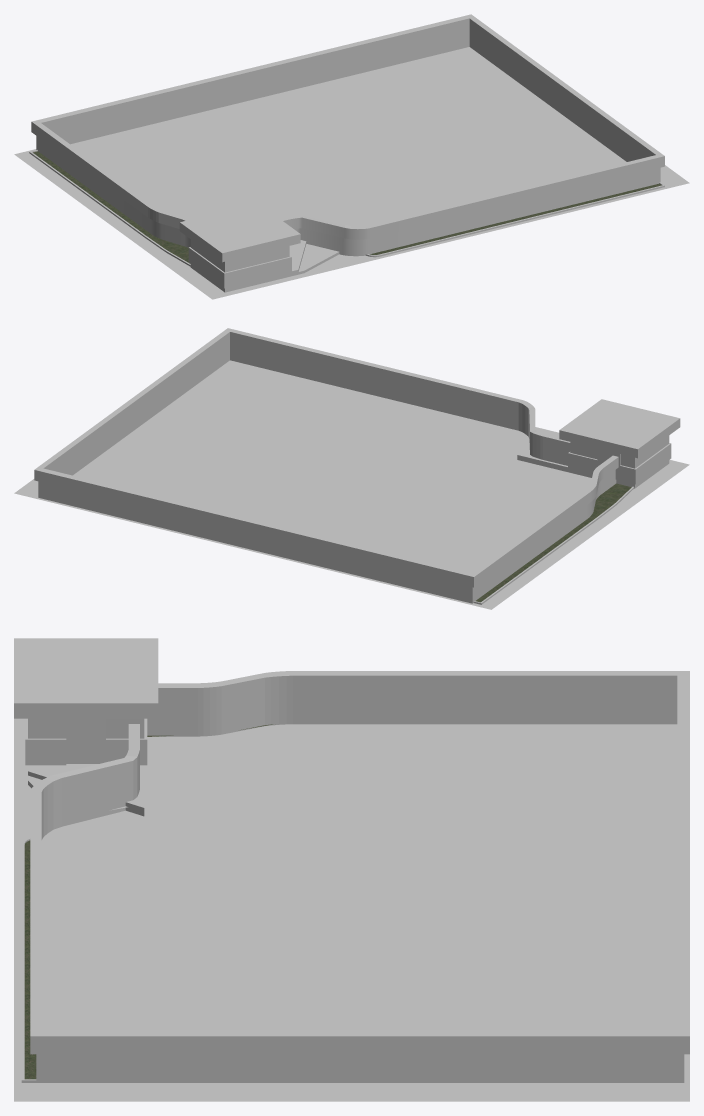
3 renders of one model, top to bottom at view 1: azimuth 30°, elevation 25°; view 2: azimuth 150°, elevation 25°; view 3: azimuth 270°, elevation 25°, orthographic. The views are drawn at different scales.
Parts seen in each view (by area): view 1: Base-16; view 2: Base-16; view 3: Base-16.
Part boxes in pixels (left/top/right/bottom): Base-16: left=14, top=14, right=689, bottom=299; Base-16: left=14, top=328, right=689, bottom=609; Base-16: left=14, top=638, right=689, bottom=1101.
Size of what is drawn, in the model's own units: 5000 by 440 by 3600.
